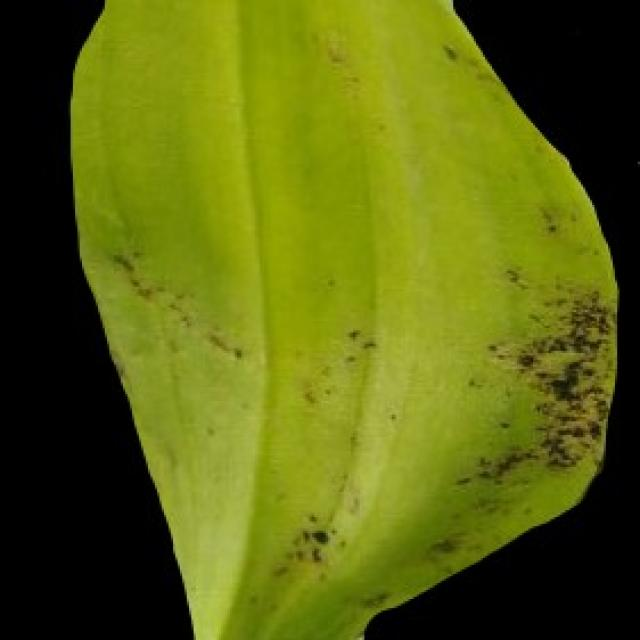mite: (524, 287, 613, 469), (339, 321, 380, 364), (430, 535, 458, 556), (440, 41, 458, 61), (310, 526, 328, 544), (344, 323, 360, 342), (307, 544, 323, 563), (296, 526, 310, 544)
